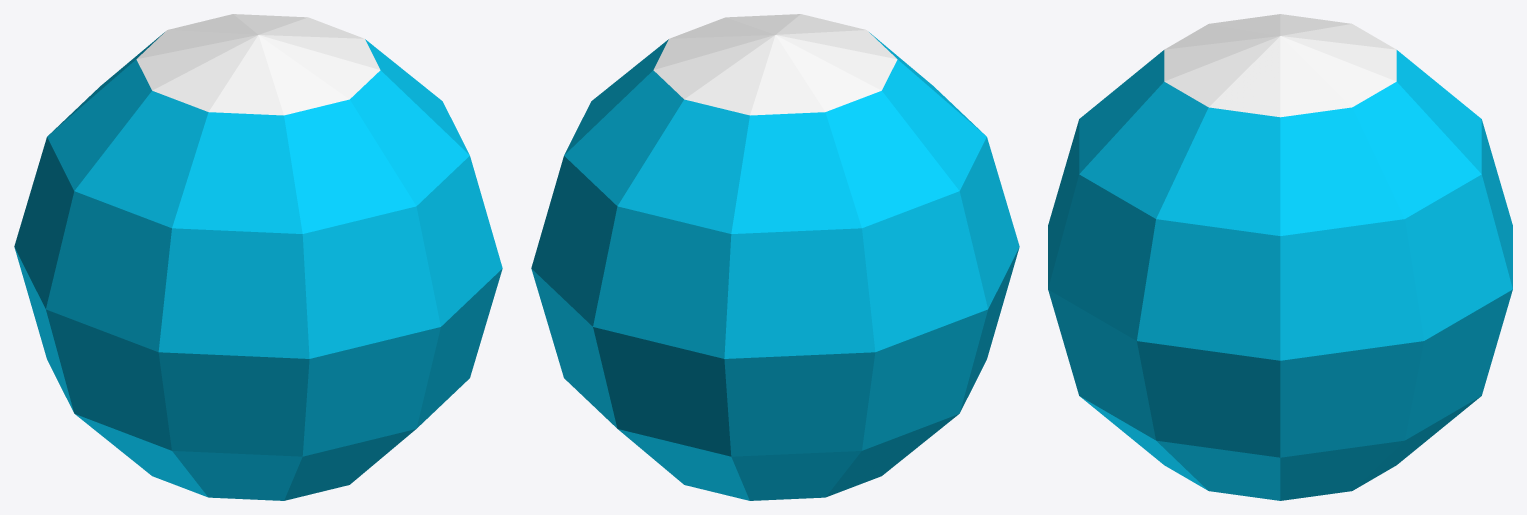
The model's file is ball_moon.glb.
The picture shows the model from 3 angles, left to right: view 1: azimuth 30°, elevation 25°; view 2: azimuth 150°, elevation 25°; view 3: azimuth 270°, elevation 25°; orthographic projection.
Visible parts, largest first — view 1: Ball; view 2: Ball; view 3: Ball.
Boxes of the visible parts, x1,y1,x2,y2 form: Ball: (14, 14, 502, 500); Ball: (531, 14, 1019, 500); Ball: (1048, 14, 1512, 500).
Bounding box in the file's own units: 0.09 × 0.09 × 0.0856.
